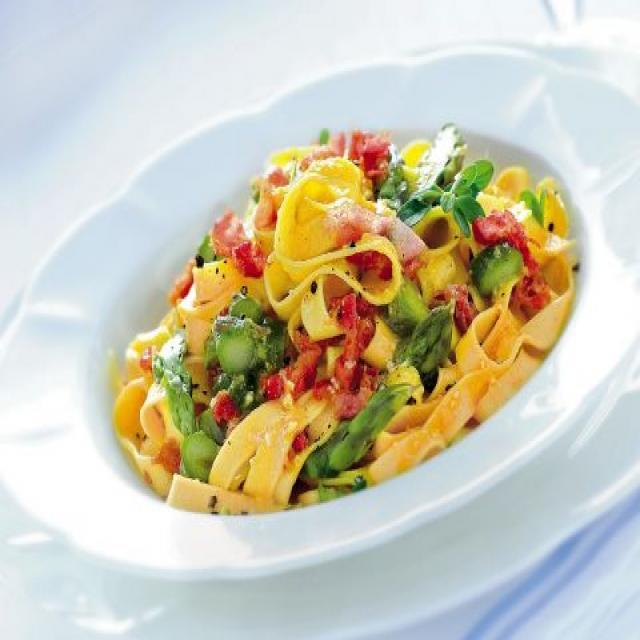Pasta with carbonara sauce: (99, 91, 617, 537)
